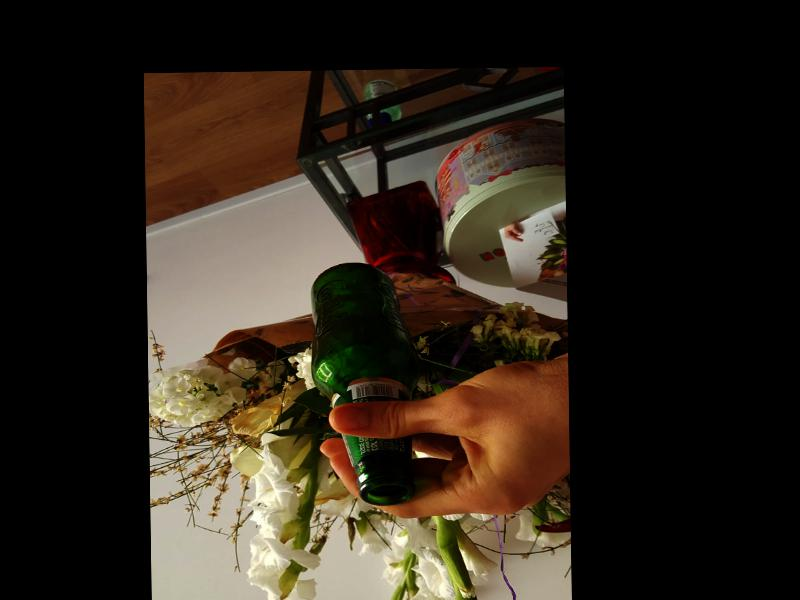Beer: (308, 260, 421, 504)
